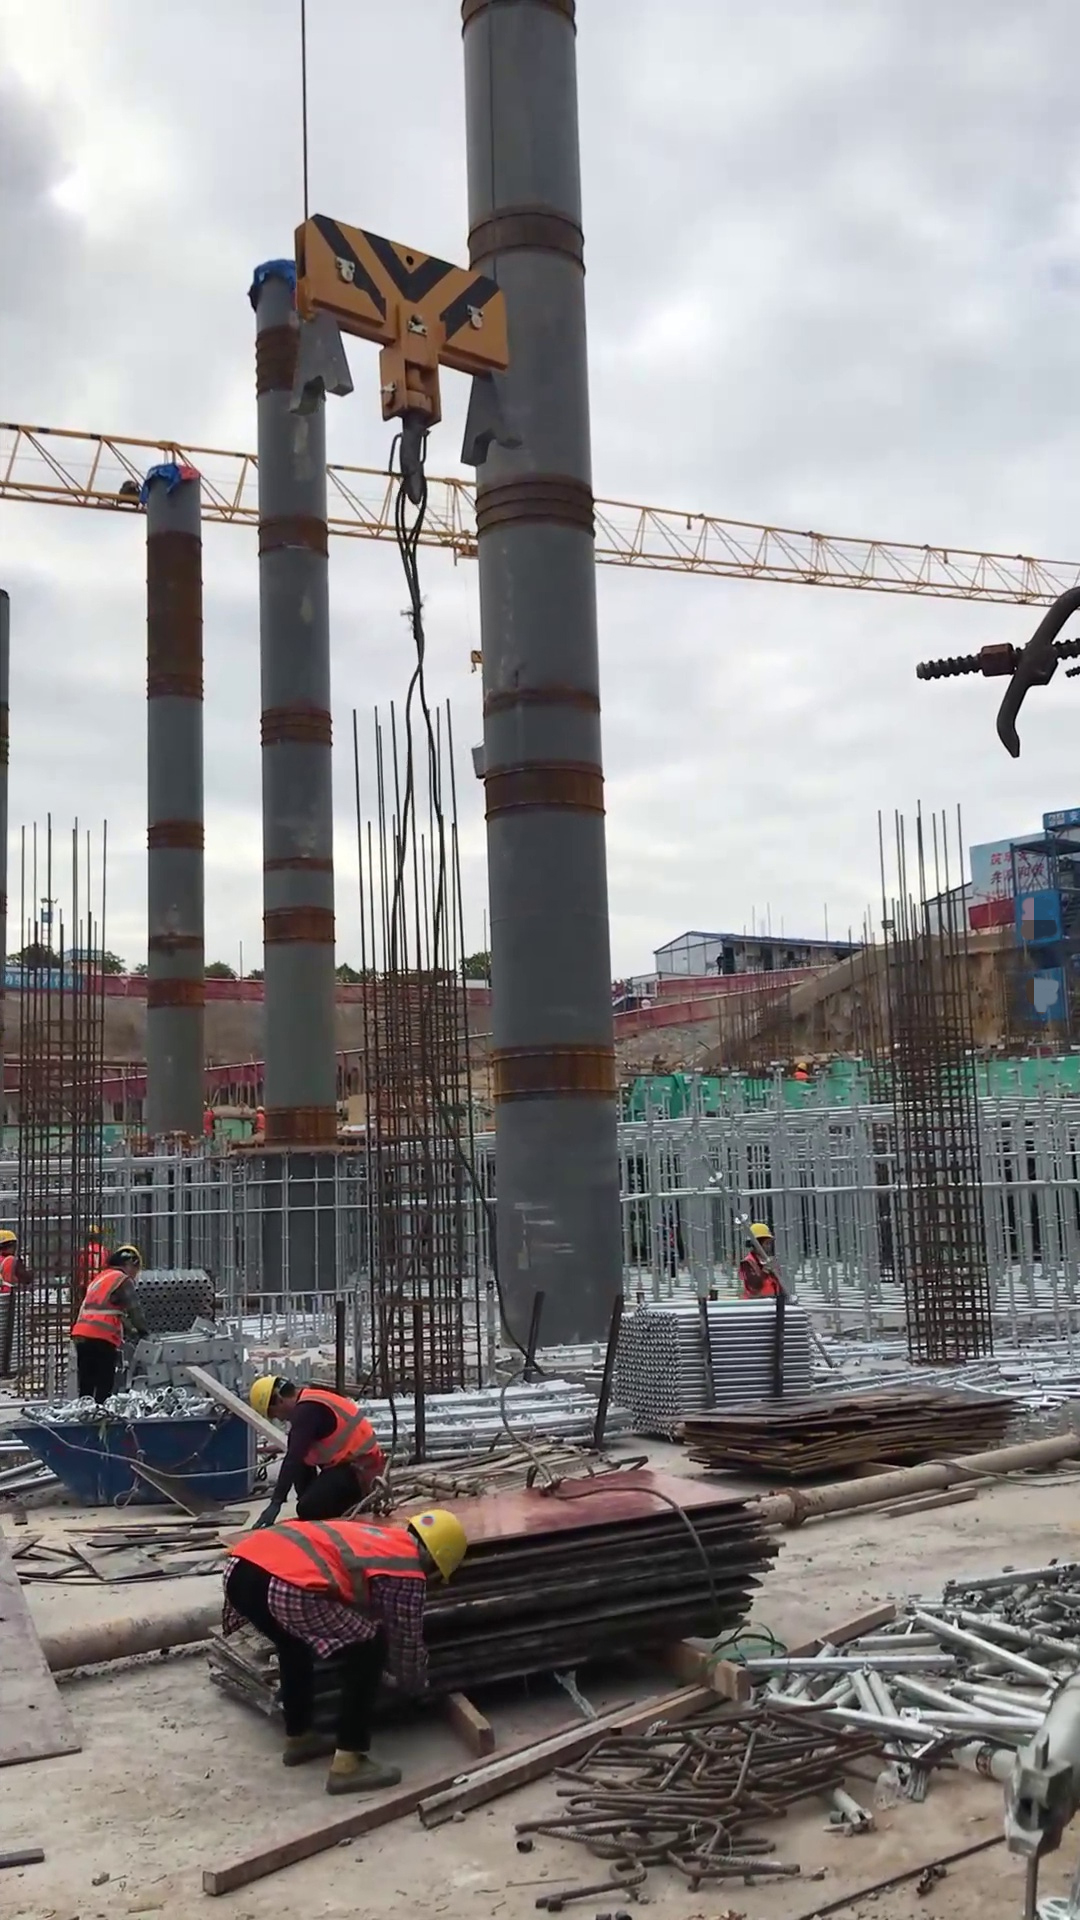board: (390, 1458, 811, 1715), (671, 1367, 1035, 1498)
helmet: (403, 1506, 467, 1588), (243, 1371, 287, 1432), (105, 1240, 146, 1285), (743, 1219, 778, 1251), (1, 1226, 21, 1254)
hook: (273, 206, 542, 517)
hopper: (4, 1398, 261, 1522)
person: (214, 1503, 479, 1800), (240, 1369, 401, 1535), (68, 1238, 147, 1410), (1, 1224, 36, 1391), (736, 1217, 785, 1306)
scaffold: (605, 1297, 824, 1428), (129, 1263, 219, 1342)
vest: (224, 1514, 437, 1600), (296, 1379, 389, 1476), (68, 1267, 132, 1357), (739, 1253, 782, 1306), (1, 1257, 21, 1319)
